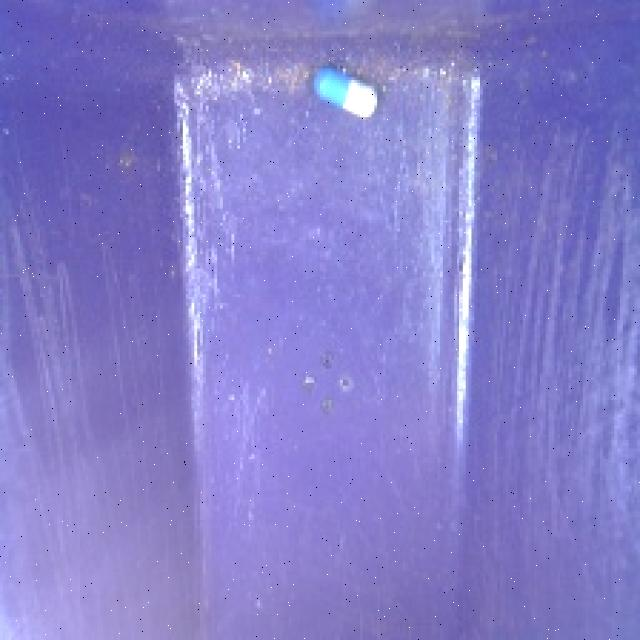small: (311, 52, 384, 128)
